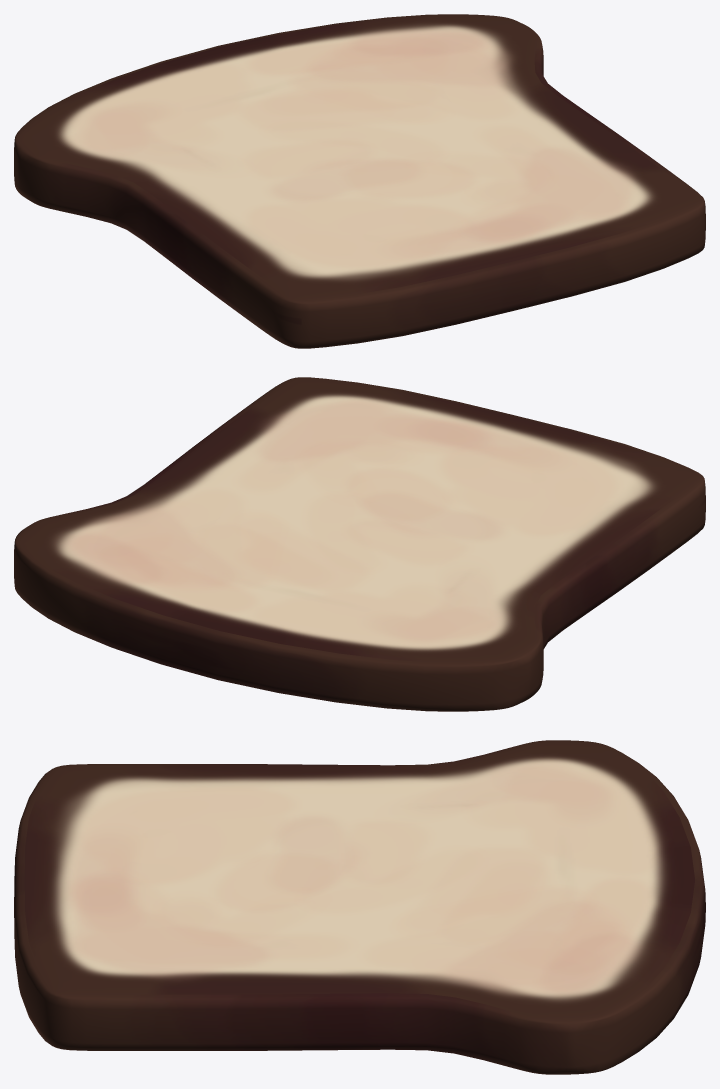
Rendered from bread.obj.
3 views of the same model, one above another, from view 1: azimuth 30°, elevation 25°; view 2: azimuth 150°, elevation 25°; view 3: azimuth 270°, elevation 25° (orthographic). The views are drawn at different scales.
Visible parts, largest first — view 1: bread-col; view 2: bread-col; view 3: bread-col.
Part boxes in pixels (left/top/right/bottom): bread-col: left=14, top=14, right=705, bottom=348; bread-col: left=14, top=377, right=705, bottom=711; bread-col: left=14, top=740, right=705, bottom=1074.
Bounding box in the file's own units: 21.58 × 2 × 22.08.
1 material, 1 textured.
